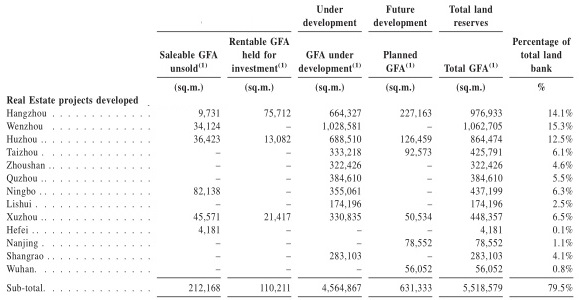column: (5, 1, 152, 300), (228, 1, 293, 300), (298, 1, 362, 300), (371, 1, 434, 300), (511, 1, 574, 300), (158, 1, 220, 300), (442, 1, 504, 300)
row: (1, 81, 577, 94), (1, 94, 579, 106), (1, 1, 578, 13), (1, 263, 579, 274), (1, 18, 578, 29), (1, 62, 579, 72), (1, 134, 579, 144), (1, 147, 579, 157), (1, 160, 579, 170), (1, 185, 579, 195), (1, 211, 579, 221), (1, 250, 579, 260), (1, 36, 578, 46), (1, 50, 578, 60), (1, 108, 579, 117), (1, 121, 579, 130), (1, 173, 579, 182), (1, 198, 579, 207), (1, 225, 579, 234), (1, 238, 579, 247), (1, 283, 579, 292)
